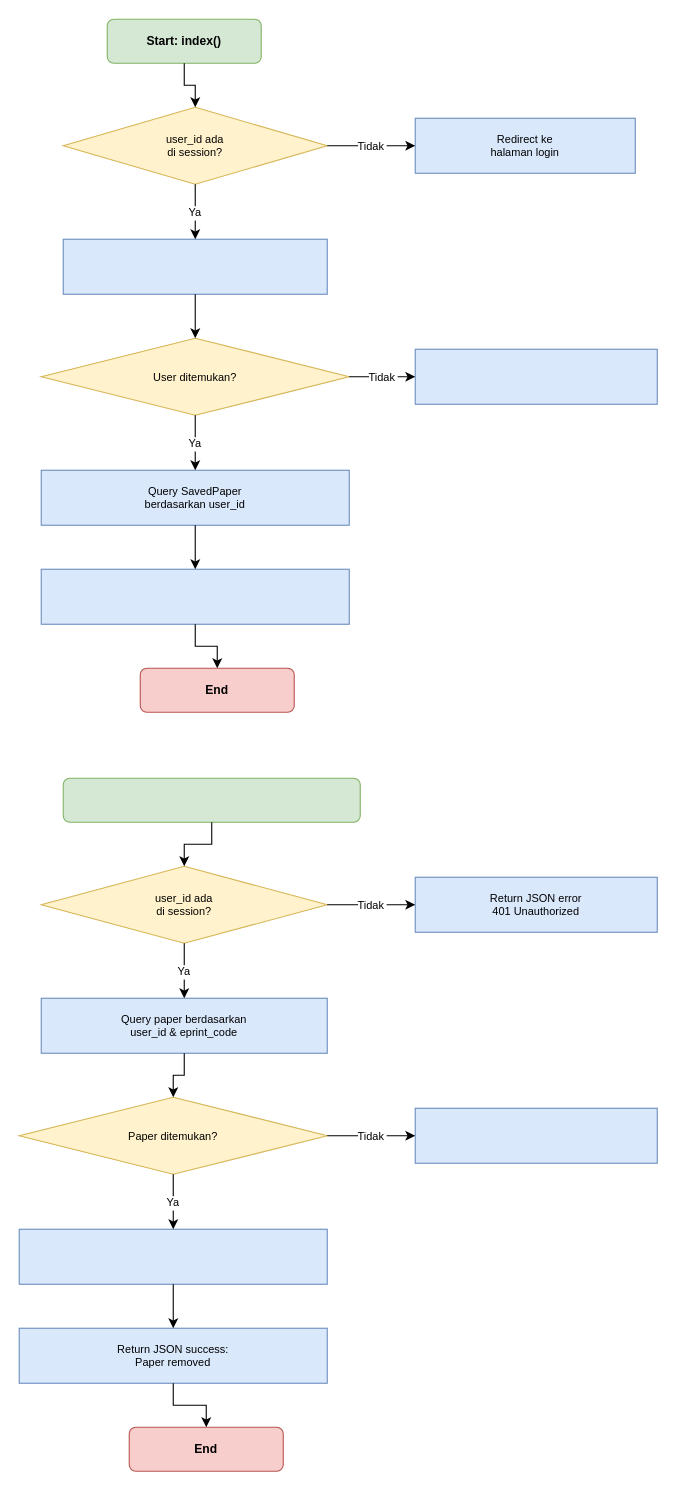
This 677x1491 diagram has some shape labels left out. Each missing label, with the centre of its shape:
"Ambil user dari database" goes at point (194, 266).
"db.session.delete(paper) db.session.commit()" goes at point (172, 1256).
"Render saved.html dengan daftar paper" goes at point (194, 596).
"Return JSON error 404 Not Found" goes at point (535, 1135).
"session.clear() + redirect ke login" goes at point (535, 376).
"Start: remove_paper(eprint_code)" goes at point (211, 799).
